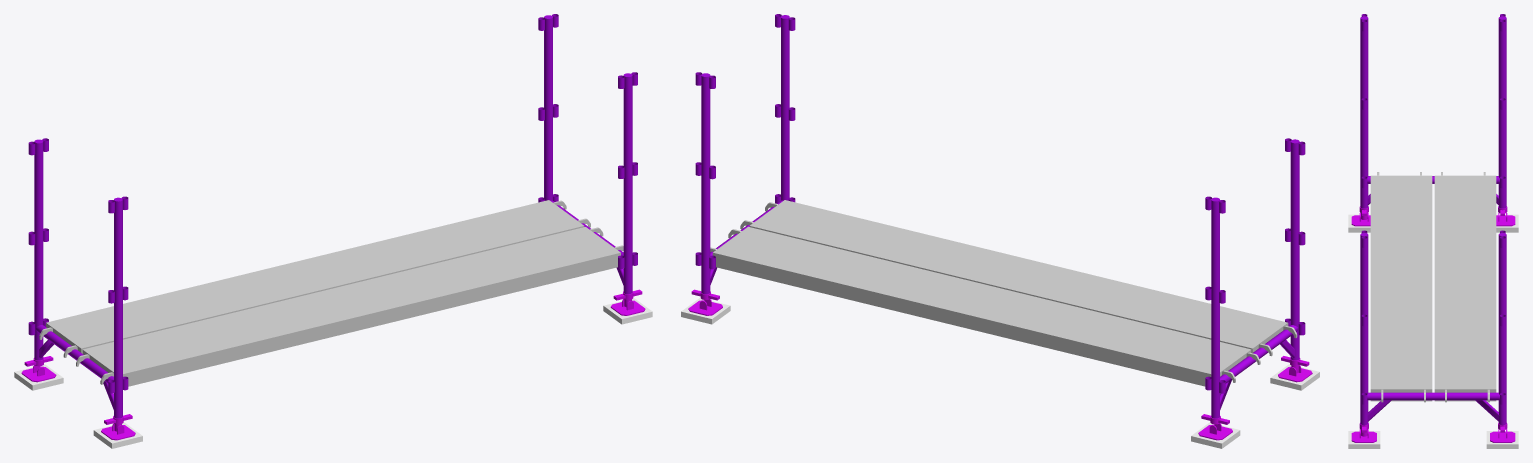
File: scaffold2.glb
3 views of the same model, side by side, from view 1: azimuth 30°, elevation 25°; view 2: azimuth 150°, elevation 25°; view 3: azimuth 270°, elevation 25° (orthographic). The views are drawn at different scales.
Visible parts, largest first — view 1: cs_part_Component#79_primitive4_1775190458203, cs_part_Component#79_primitive4_1775190458149, cs_part_Component#79_primitive1_1775190458203, cs_part_Component#79_primitive3_1775190458148; view 2: cs_part_Component#79_primitive4_1775190458149, cs_part_Component#79_primitive4_1775190458203, cs_part_Component#79_primitive1_1775190458147, cs_part_Component#79_primitive3_1775190458203; view 3: cs_part_Component#79_primitive4_1775190458149, cs_part_Component#79_primitive4_1775190458203, cs_part_Component#79_primitive5_1775190458203, cs_part_Component#79_primitive0_1775190458147, cs_part_Component#9.001_primitive9_1775190457560, cs_part_Component#9_primitive9_1775190457539, cs_part_Component#15_primitive138_1775190457617, cs_part_Component#15_primitive138_1775190458423, cs_part_Component#9.001_primitive9_1775190458365, cs_part_Component#15_primitive136_1775190457616, cs_part_Component#10.001_primitive5_1775190457541, cs_part_Component#15_primitive136_1775190458422 (+1 smaller).
Part boxes in pixels (x1,y1,x2,y2): cs_part_Component#79_primitive4_1775190458203: (83, 227, 620, 373); cs_part_Component#79_primitive4_1775190458149: (46, 200, 583, 348); cs_part_Component#79_primitive1_1775190458203: (123, 252, 620, 386); cs_part_Component#79_primitive3_1775190458148: (81, 226, 584, 353); cs_part_Component#79_primitive4_1775190458149: (713, 226, 1250, 373); cs_part_Component#79_primitive4_1775190458203: (750, 200, 1287, 348); cs_part_Component#79_primitive1_1775190458147: (712, 252, 1211, 386); cs_part_Component#79_primitive3_1775190458203: (749, 226, 1252, 352); cs_part_Component#79_primitive4_1775190458149: (1434, 175, 1496, 389); cs_part_Component#79_primitive4_1775190458203: (1370, 175, 1432, 389); cs_part_Component#79_primitive5_1775190458203: (1370, 389, 1432, 401); cs_part_Component#79_primitive0_1775190458147: (1434, 389, 1496, 401); cs_part_Component#9.001_primitive9_1775190457560: (1490, 431, 1515, 441); cs_part_Component#9_primitive9_1775190457539: (1351, 431, 1376, 441); cs_part_Component#15_primitive138_1775190457617: (1363, 251, 1364, 392); cs_part_Component#15_primitive138_1775190458423: (1363, 35, 1364, 176); cs_part_Component#9.001_primitive9_1775190458365: (1496, 215, 1515, 225); cs_part_Component#15_primitive136_1775190457616: (1362, 270, 1363, 393); cs_part_Component#10.001_primitive5_1775190457541: (1486, 431, 1518, 444); cs_part_Component#15_primitive136_1775190458422: (1362, 54, 1363, 176).
Size of the model in its own units: 3.99 by 1.68 by 1.25.
